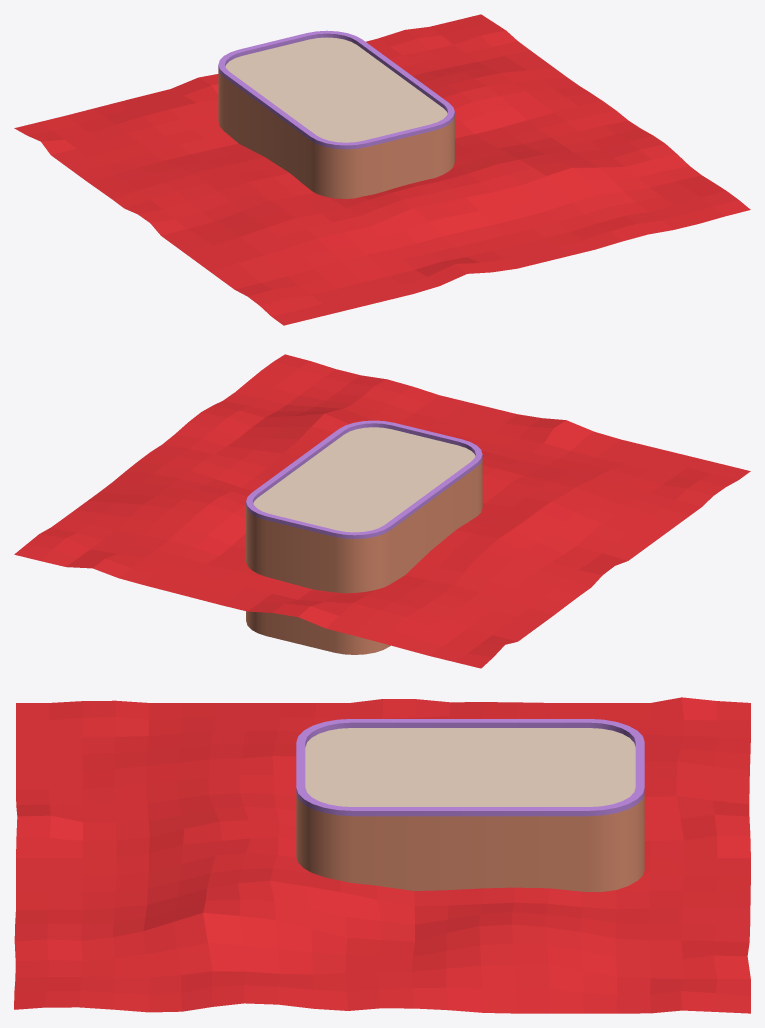
The model's file is graund_new.fbx.
3 views of the same model, one above another, from view 1: azimuth 30°, elevation 25°; view 2: azimuth 150°, elevation 25°; view 3: azimuth 270°, elevation 25° (orthographic). The views are drawn at different scales.
Parts seen in each view (by area): view 1: Plane, graund, graund_near; view 2: Plane, graund, graund_near; view 3: Plane, graund, graund_near.
Boxes of the visible parts, left/top/right/bottom form: Plane: left=14, top=14, right=750, bottom=325; graund: left=218, top=37, right=454, bottom=198; graund_near: left=218, top=30, right=454, bottom=149; Plane: left=14, top=354, right=750, bottom=668; graund: left=246, top=427, right=482, bottom=654; graund_near: left=246, top=420, right=482, bottom=538; Plane: left=14, top=697, right=750, bottom=1013; graund: left=296, top=728, right=644, bottom=891; graund_near: left=296, top=719, right=644, bottom=816.
Size of the model in its own units: 844 by 207 by 846.
